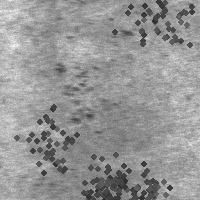rolled-in_scale: (1, 87, 97, 183), (108, 0, 200, 64), (57, 52, 112, 138), (55, 147, 139, 200), (105, 151, 183, 200), (81, 149, 145, 200)
